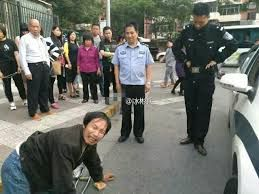10+: (1, 1, 242, 192)
down: (1, 108, 119, 193)
